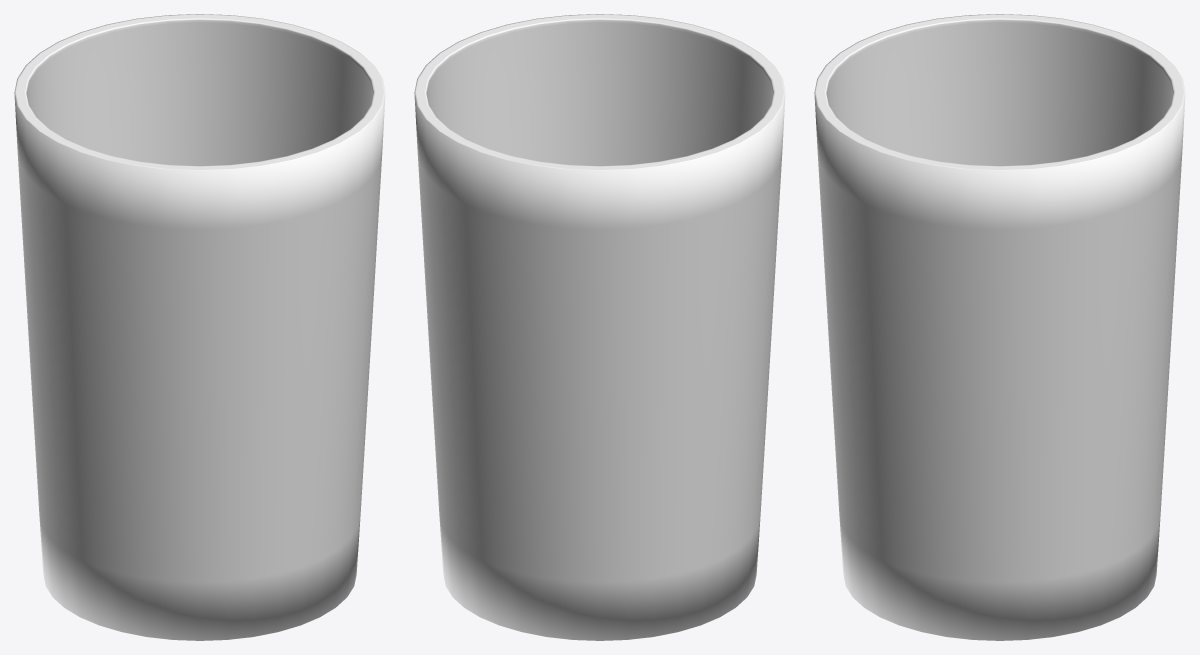
Rendered from Vaso.fbx.
The picture shows the model from 3 angles, left to right: view 1: azimuth 30°, elevation 25°; view 2: azimuth 150°, elevation 25°; view 3: azimuth 270°, elevation 25°; orthographic projection.
Visible parts, largest first — view 1: Vaso_LOD00; view 2: Vaso_LOD00; view 3: Vaso_LOD00.
Part boxes in pixels (x1,y1,x2,y2): Vaso_LOD00: (14,14,385,640); Vaso_LOD00: (414,14,785,640); Vaso_LOD00: (814,14,1185,640).
Size of what is drawn, in the model's own units: 13.6 by 13.6 by 19.5.
